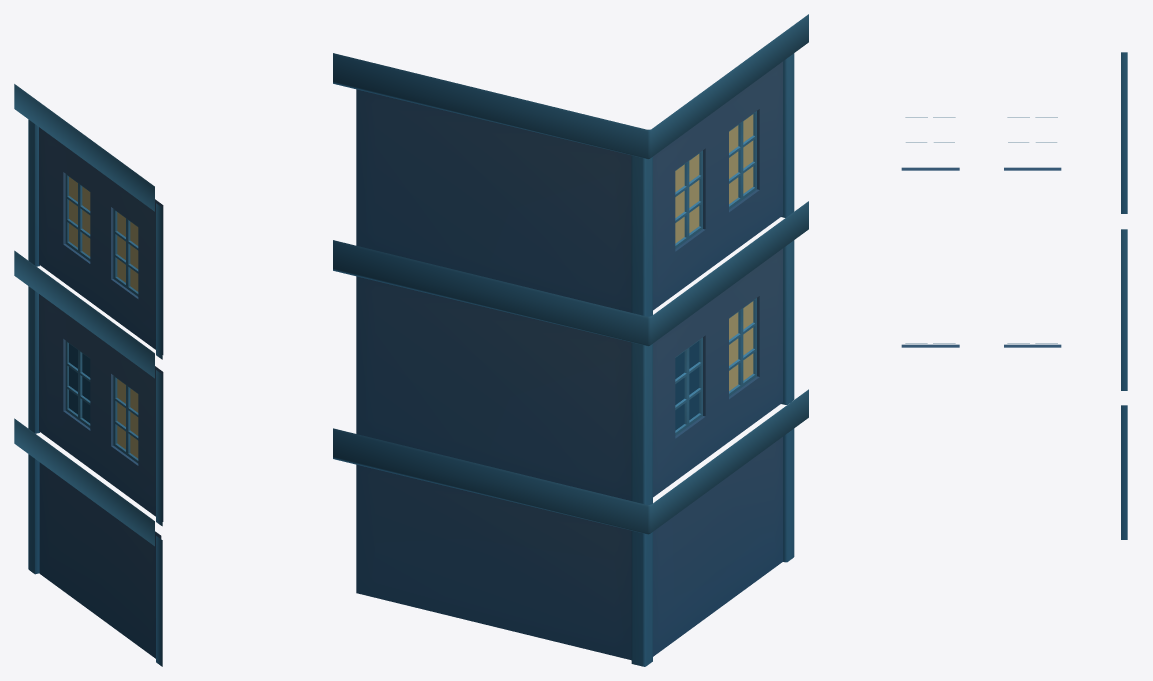
Rendered from BackgroundBuilding01Night.glb.
3 views of the same model, side by side, from view 1: azimuth 30°, elevation 25°; view 2: azimuth 150°, elevation 25°; view 3: azimuth 270°, elevation 25° (orthographic). The views are drawn at different scales.
Parts seen in each view (by area): view 1: BackgroundBuilding01Night; view 2: BackgroundBuilding01Night; view 3: BackgroundBuilding01Night.
Part boxes in pixels (x1,y1,x2,y2): BackgroundBuilding01Night: [14, 84, 163, 666]; BackgroundBuilding01Night: [333, 14, 808, 666]; BackgroundBuilding01Night: [901, 52, 1127, 539].
Size of the model in its own units: 10.6 by 17.38 by 9.21.
